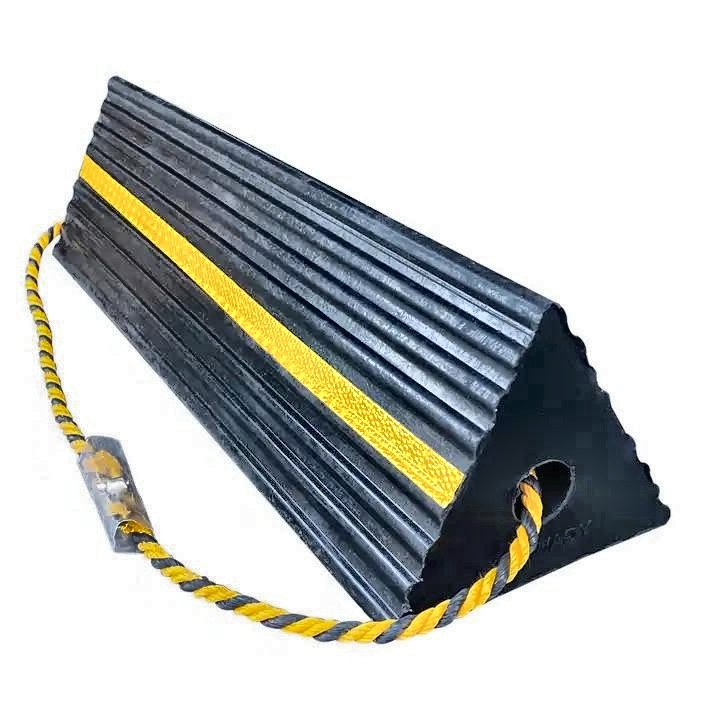chock: (48, 68, 674, 643)
